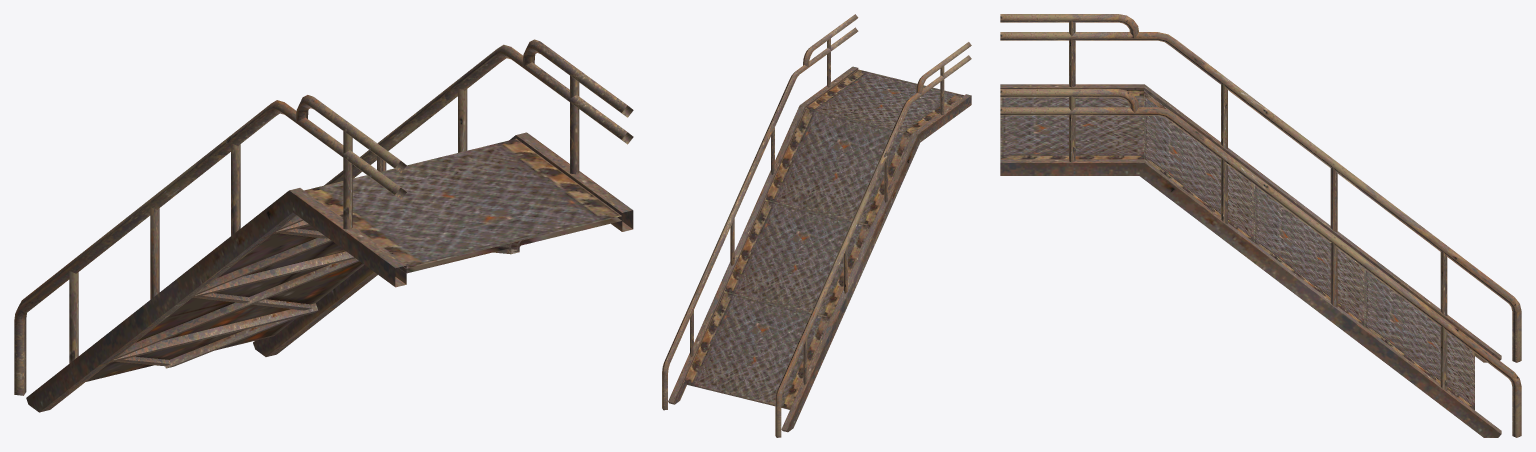
The model's file is Bridge_stairs2.fbx.
3 renders of one model, left to right at view 1: azimuth 30°, elevation 25°; view 2: azimuth 150°, elevation 25°; view 3: azimuth 270°, elevation 25°, orthographic. The views are drawn at different scales.
Visible parts, largest first — view 1: Bridge_stairs2; view 2: Bridge_stairs2; view 3: Bridge_stairs2.
Part boxes in pixels (<box>): Bridge_stairs2: <box>14,39,633,412</box>; Bridge_stairs2: <box>662,14,971,437</box>; Bridge_stairs2: <box>1000,14,1521,437</box>.
Bounding box in the file's own units: 210 × 429 × 584.
